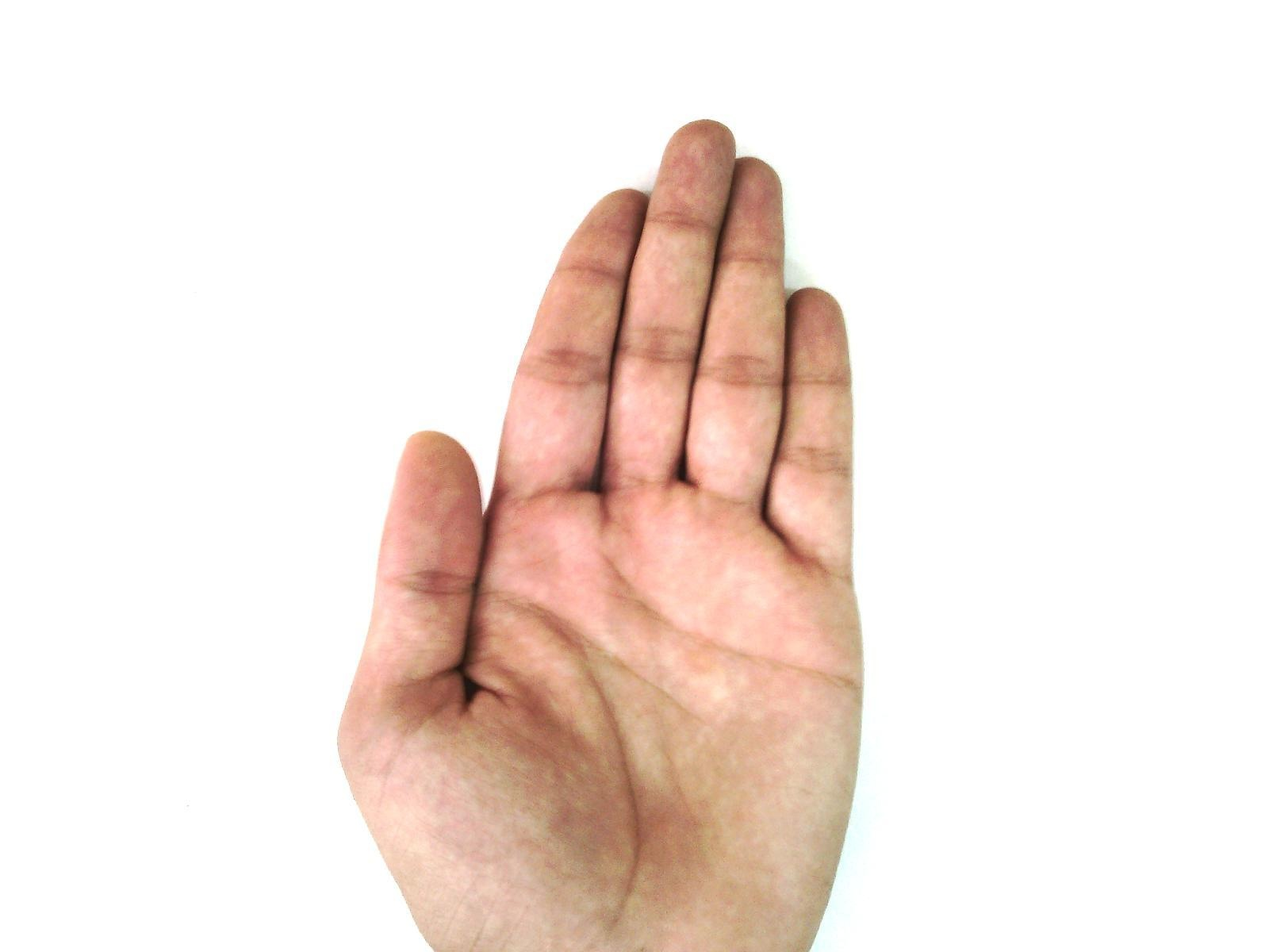open_palm: (335, 118, 868, 951)
